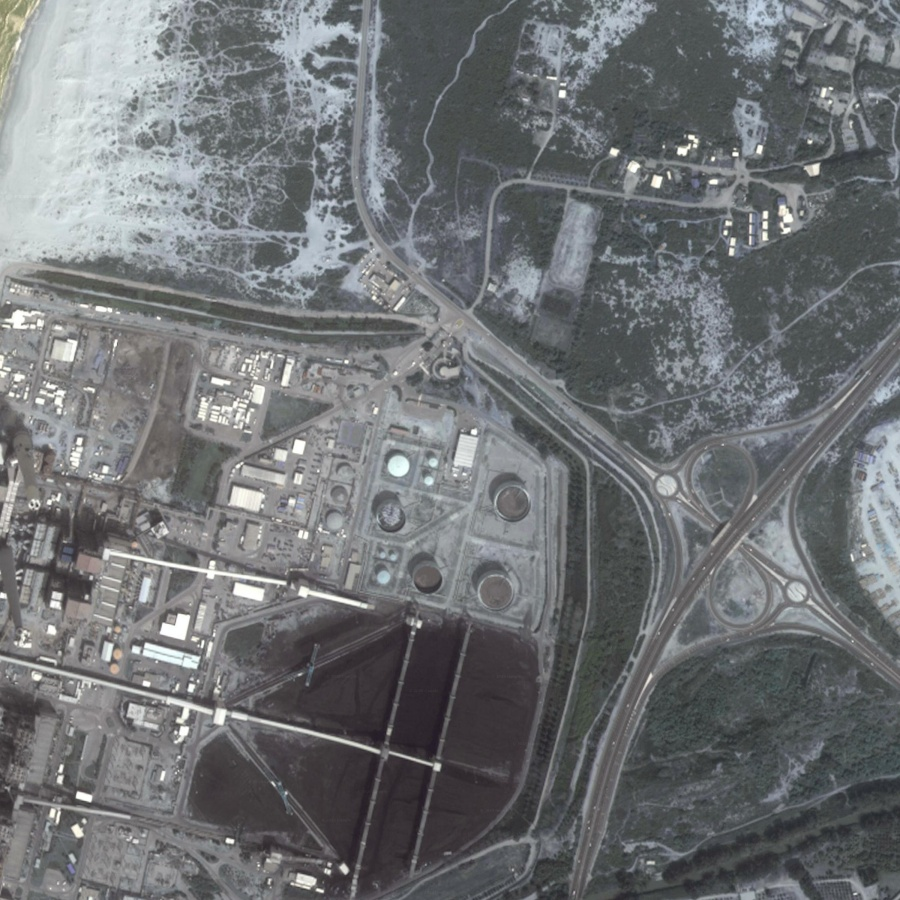PowerPlant: (183, 486, 544, 882)
